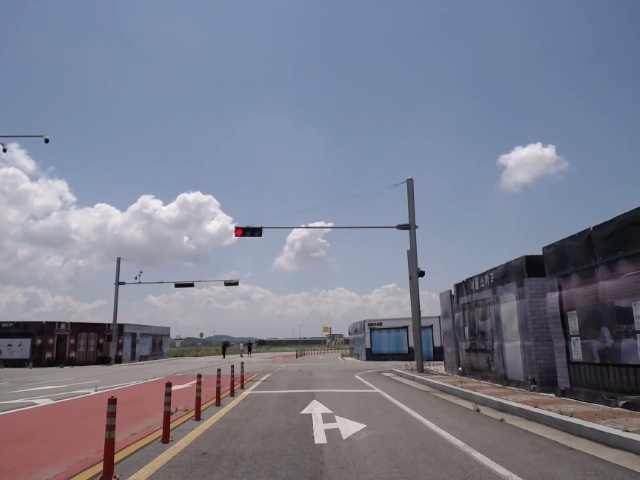red_3: (234, 227, 264, 238)
